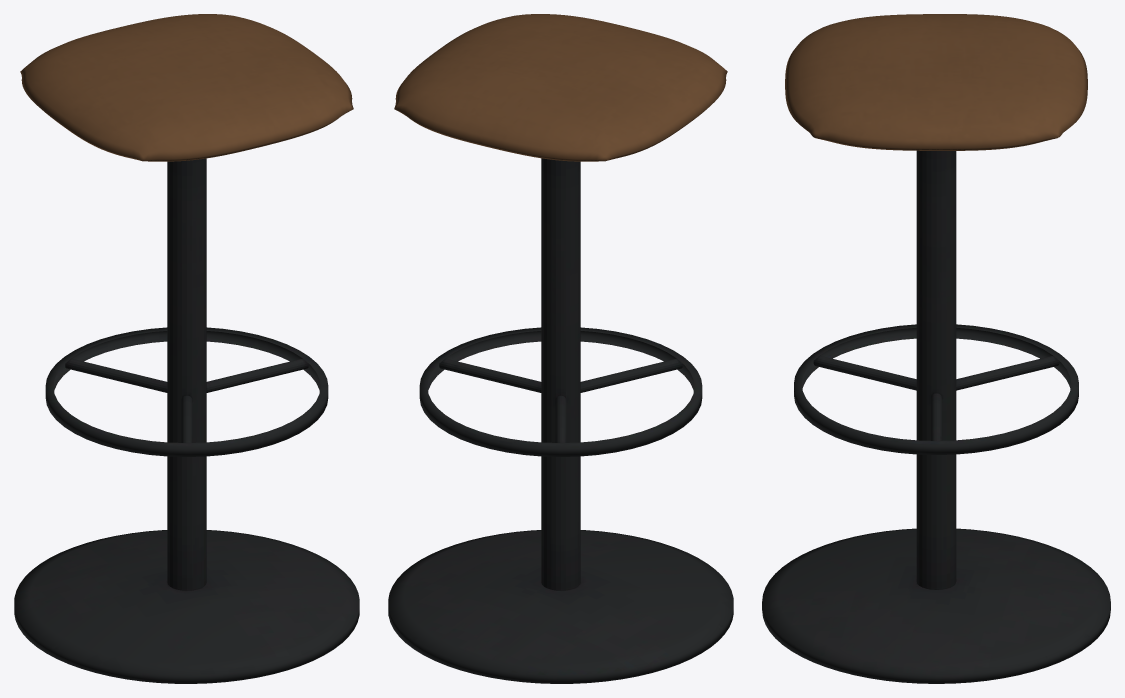
The model's file is metal-leather.glb.
3 renders of one model, left to right at view 1: azimuth 30°, elevation 25°; view 2: azimuth 150°, elevation 25°; view 3: azimuth 270°, elevation 25°, orthographic.
Parts seen in each view (by area): view 1: metal_frame, leather_primary; view 2: metal_frame, leather_primary; view 3: metal_frame, leather_primary.
Part boxes in pixels (bbox=[...]): metal_frame: bbox=[14, 158, 359, 683]; leather_primary: bbox=[20, 14, 353, 161]; metal_frame: bbox=[388, 158, 733, 683]; leather_primary: bbox=[394, 14, 727, 161]; metal_frame: bbox=[762, 150, 1110, 683]; leather_primary: bbox=[785, 14, 1087, 150].
Size of the model in its own units: 0.44 by 0.7706 by 0.44.
2 materials, 2 textured.
